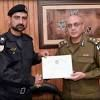uniform: (1, 23, 34, 100)
